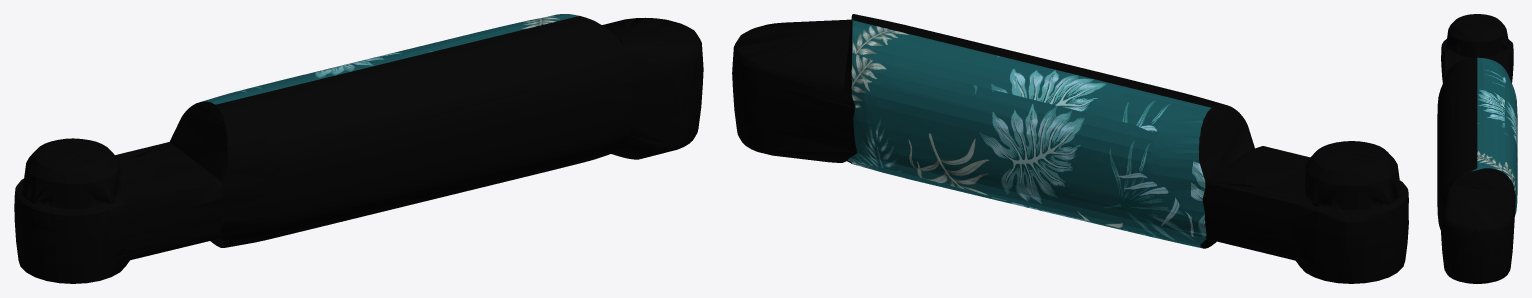
Rendered from arm_link_sh1.obj.
3 renders of one model, left to right at view 1: azimuth 30°, elevation 25°; view 2: azimuth 150°, elevation 25°; view 3: azimuth 270°, elevation 25°, orthographic. The views are drawn at different scales.
Visible parts, largest first — view 1: arm0.link_hr0.003_BlackAbs, arm0.link_hr0.003_wrap; view 2: arm0.link_hr0.003_wrap, arm0.link_hr0.003_BlackAbs; view 3: arm0.link_hr0.003_BlackAbs, arm0.link_hr0.003_wrap.
Boxes of the visible parts, x1,y1,x2,y2 form: arm0.link_hr0.003_BlackAbs: (14, 16, 703, 283); arm0.link_hr0.003_wrap: (203, 14, 579, 104); arm0.link_hr0.003_wrap: (848, 17, 1211, 248); arm0.link_hr0.003_BlackAbs: (732, 14, 1408, 283); arm0.link_hr0.003_BlackAbs: (1437, 14, 1515, 283); arm0.link_hr0.003_wrap: (1471, 57, 1517, 215).
Size of the model in its own units: 0.3984 by 0.0824 by 0.0661.
2 materials, 1 textured.
